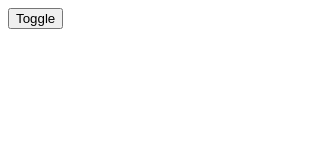
it: Collapsible (no Radix) › toggles content and merges props through asChild
This screenshot has width=320, height=160.
Expected: the text "Child link" is not shown
Click the button "Toggle" at {"x": 36, "y": 18}, box [8,8,63,29]
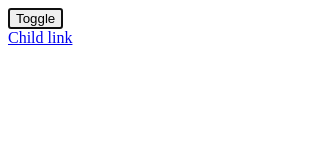
Expected: the link "Child link" is shown, [8,29,72,46]
Expected: the button "Toggle" is expanded
Click the button "Toggle" at {"x": 36, "y": 18}, box [8,8,63,29]
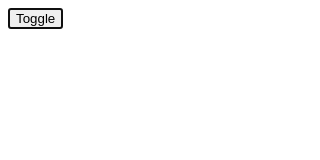
Expected: the link "Toggle" no longer shows "Child link"
